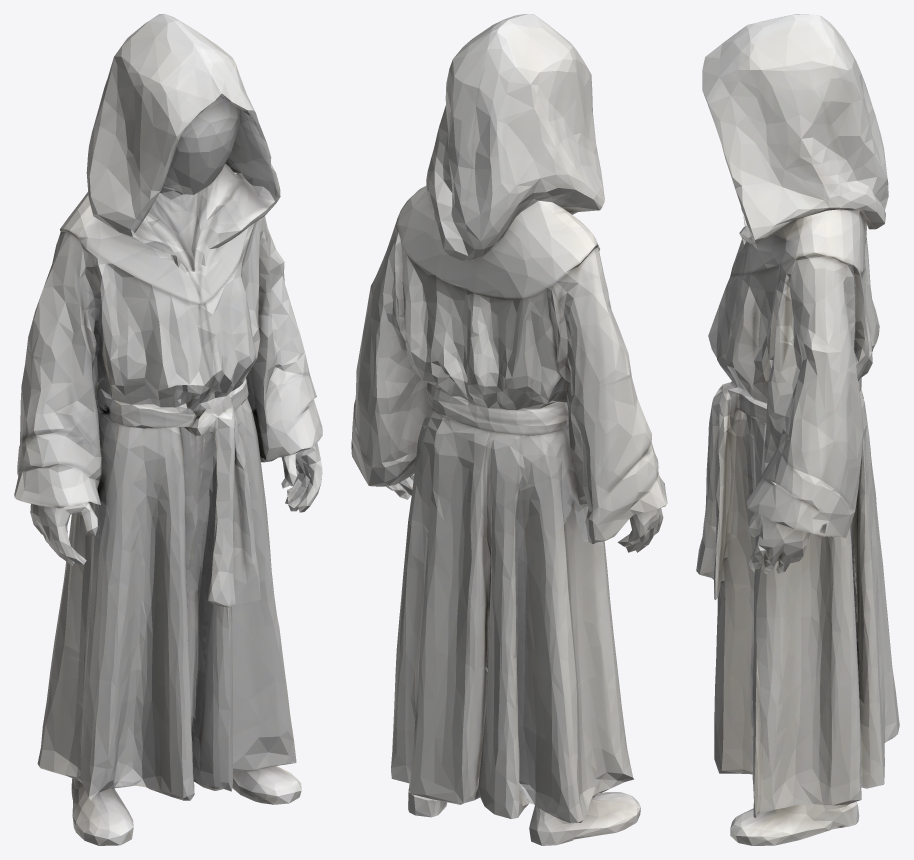
Rendered from Hooded_Figure_in_Robe_0429055717_texture.fbx.
3 renders of one model, left to right at view 1: azimuth 30°, elevation 25°; view 2: azimuth 150°, elevation 25°; view 3: azimuth 270°, elevation 25°, orthographic.
Parts seen in each view (by area): view 1: temp; view 2: temp; view 3: temp.
Part boxes in pixels (left/top/right/bottom): temp: left=14, top=14, right=322, bottom=845; temp: left=351, top=14, right=667, bottom=845; temp: left=696, top=14, right=899, bottom=845.
Bounding box in the file's own units: 81.97 × 200 × 47.28.
1 material, 1 textured.
